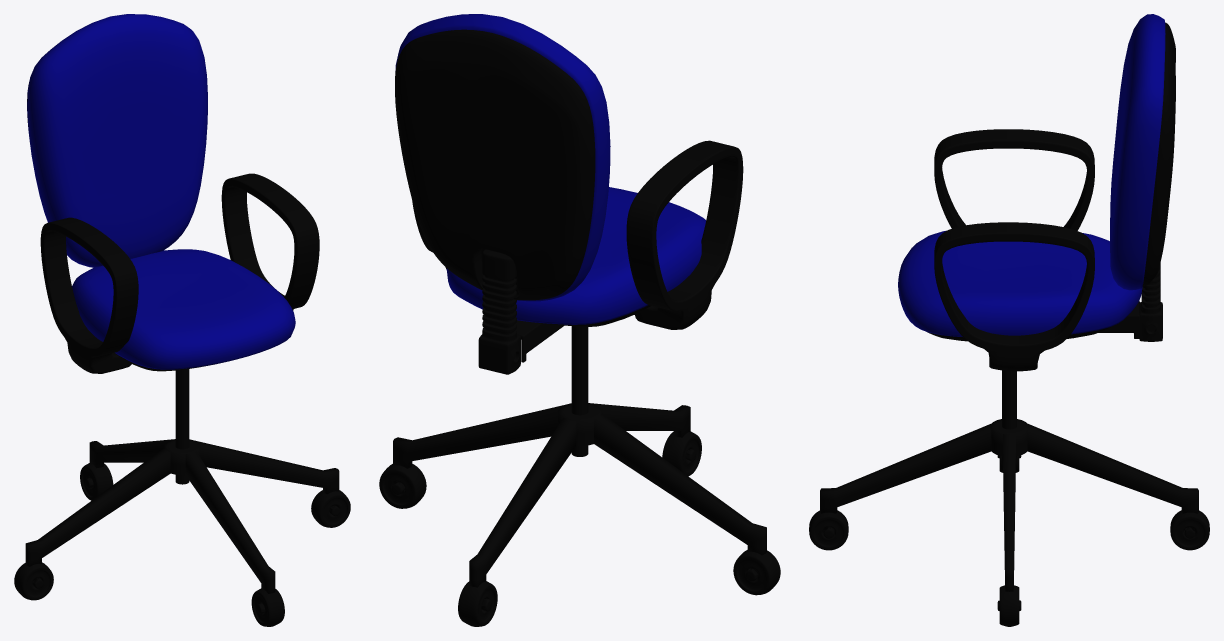
File: Chair.fbx
3 renders of one model, left to right at view 1: azimuth 30°, elevation 25°; view 2: azimuth 150°, elevation 25°; view 3: azimuth 270°, elevation 25°, orthographic. The views are drawn at different scales.
Visible parts, largest first — view 1: chair:Box002, chair:Box001, chair:Object003, chair:Line001; view 2: chair:Object002, chair:Object003, chair:Line001, chair:Box001, chair:Box002, chair:Object007, chair:Box003; view 3: chair:Box001, chair:Object003, chair:Line001, chair:Box002, chair:Object002, chair:Object007, chair:Box003.
Boxes of the visible parts, x1,y1,x2,y2 form: chair:Box002: (27,14,207,267); chair:Box001: (72,249,295,369); chair:Object003: (14,369,350,626); chair:Line001: (40,173,319,373); chair:Object002: (395,29,595,300); chair:Object003: (379,326,780,626); chair:Line001: (412,140,743,329); chair:Box001: (446,187,706,324); chair:Box002: (395,14,610,301); chair:Object007: (478,249,520,374); chair:Box003: (516,320,563,362); chair:Box001: (898,230,1142,336); chair:Object003: (809,370,1209,626); chair:Line001: (934,129,1094,371); chair:Box002: (1110,14,1165,290); chair:Object002: (1142,22,1175,286); chair:Object007: (1139,263,1162,341); chair:Box003: (1098,301,1139,338).
Size of the model in its own units: 0.6665 by 0.959 by 0.6666.
